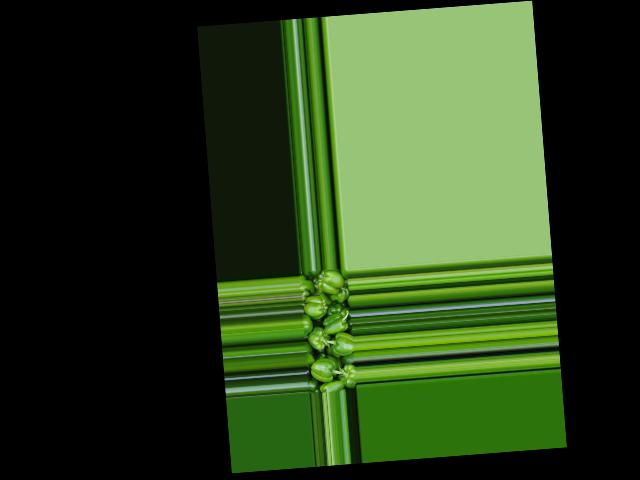bell_pepper: (298, 267, 355, 392)
